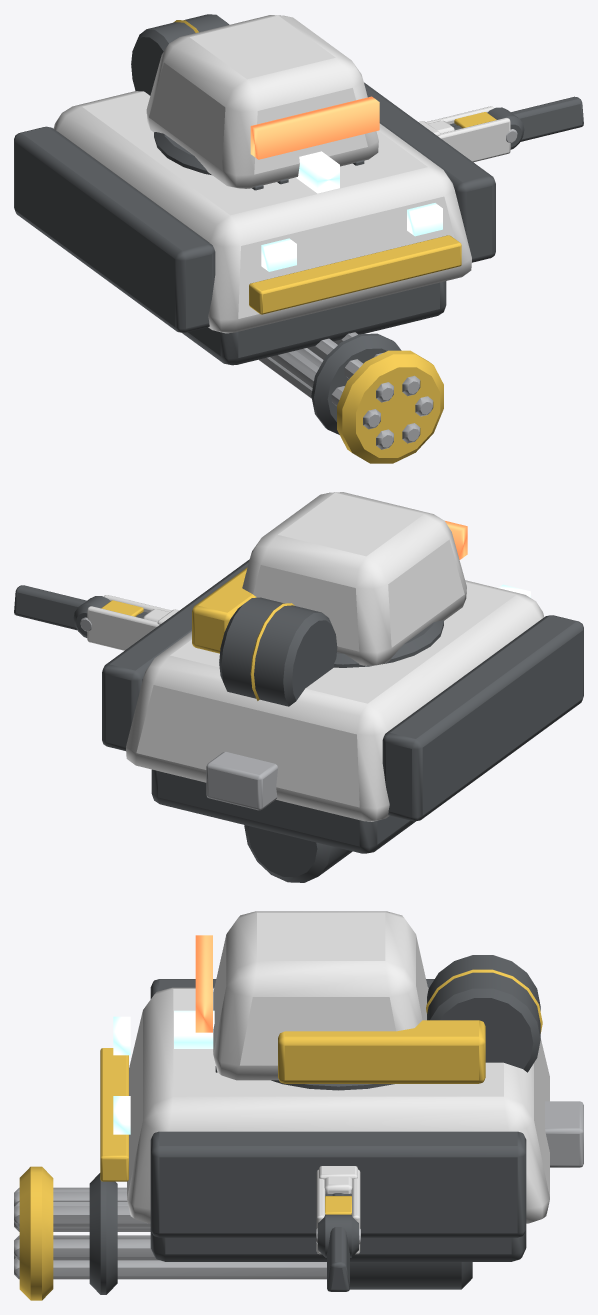
File: auto.glb
3 views of the same model, one above another, from view 1: azimuth 30°, elevation 25°; view 2: azimuth 150°, elevation 25°; view 3: azimuth 270°, elevation 25° (orthographic). The views are drawn at different scales.
Parts seen in each view (by area): view 1: Hull, Turret, Barrel, LegUpper, LegLower; view 2: Hull, Turret, Barrel, LegUpper, LegLower; view 3: Hull, Turret, Barrel, LegUpper, LegLower.
Part boxes in pixels (left/top/right/bottom): Hull: left=14, top=14, right=495, bottom=365; Turret: left=146, top=15, right=379, bottom=188; Barrel: left=258, top=332, right=443, bottom=463; LegUpper: left=419, top=106, right=524, bottom=162; LegLower: left=428, top=96, right=583, bottom=141; Hull: left=102, top=559, right=583, bottom=853; Turret: left=192, top=492, right=467, bottom=667; Barrel: left=244, top=825, right=352, bottom=882; LegUpper: left=73, top=595, right=179, bottom=650; LegLower: left=14, top=585, right=169, bottom=630; Hull: left=100, top=955, right=583, bottom=1261; Turret: left=195, top=911, right=485, bottom=1090; Barrel: left=14, top=1166, right=472, bottom=1300; LegUpper: left=316, top=1166, right=360, bottom=1257; LegLower: left=324, top=1177, right=352, bottom=1291.
Bounding box in the file's own units: 0.865 × 0.5465 × 0.7895.
